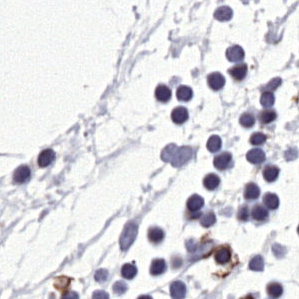Lymphocyte: (213, 241, 236, 271)
